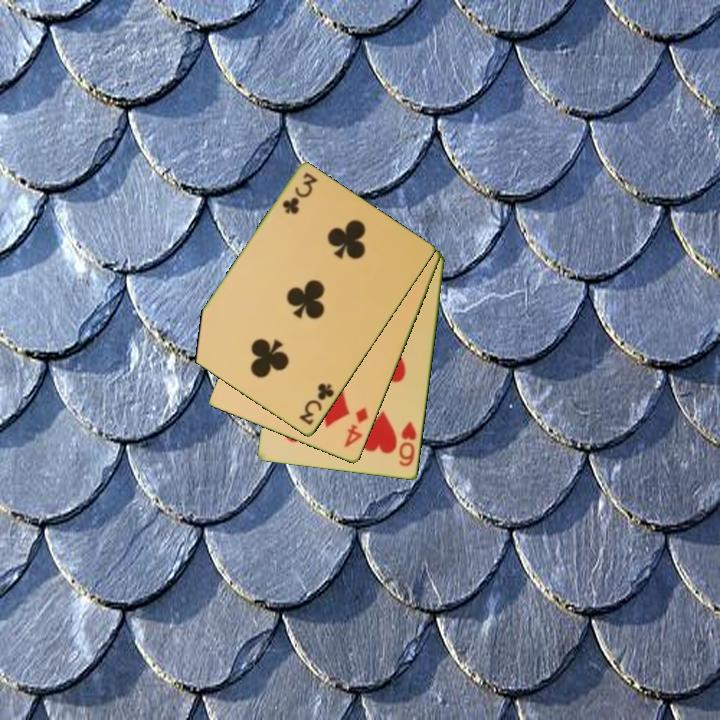3c: (296, 380, 338, 429), (279, 169, 320, 217)
4d: (341, 404, 371, 451)
6h: (396, 418, 420, 470)
